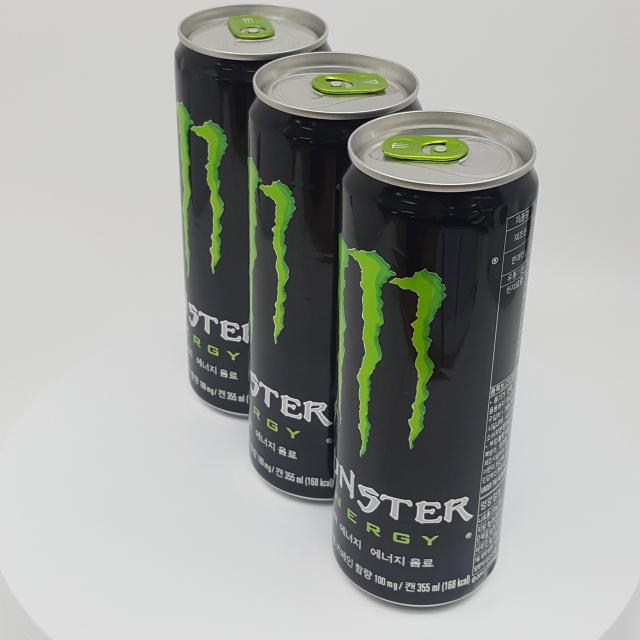--------355ML: (332, 110, 538, 607), (248, 51, 422, 502), (175, 3, 332, 417)
